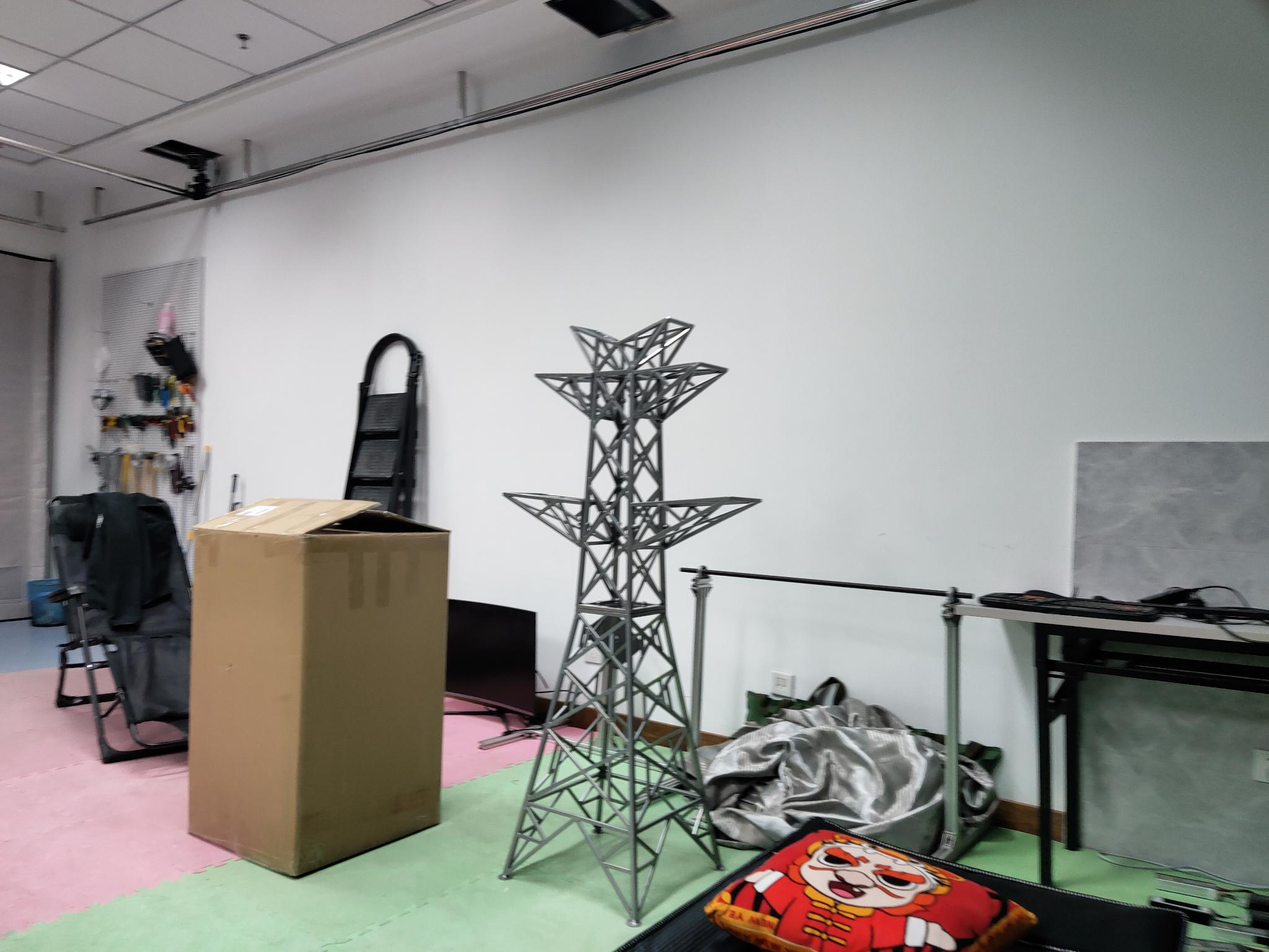tower: (504, 315, 760, 923)
